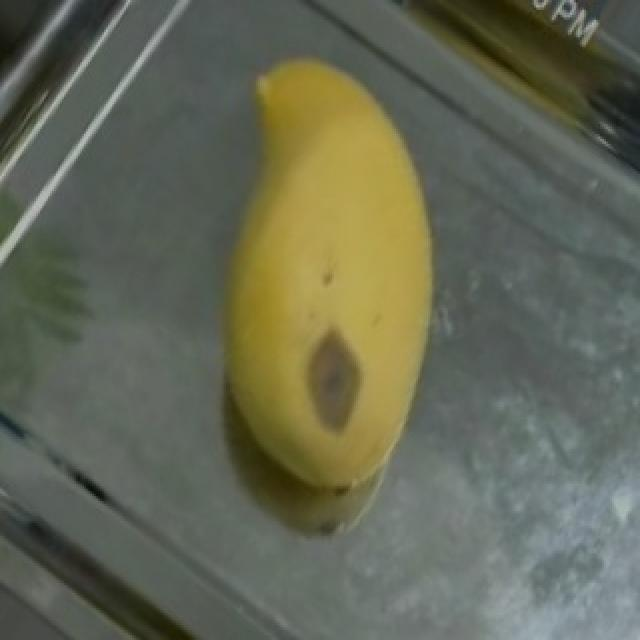fruit: (180, 10, 526, 422)
